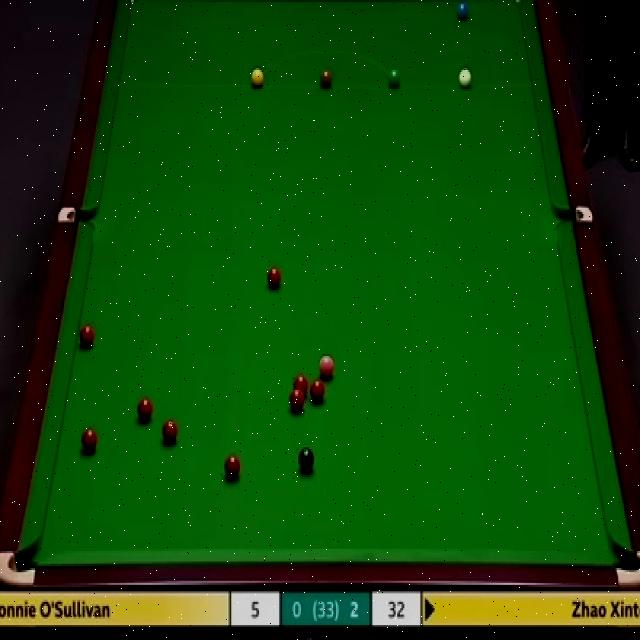black-ball: (298, 447, 316, 471)
blue-ball: (457, 1, 468, 23)
brown-ball: (319, 70, 333, 87)
green-ball: (387, 66, 402, 91)
pink-ball: (317, 358, 335, 375)
red-ball: (287, 386, 307, 412), (81, 428, 99, 455), (223, 453, 242, 478), (291, 373, 309, 399), (162, 421, 180, 446), (138, 398, 154, 425), (309, 380, 327, 403), (79, 322, 95, 346), (265, 266, 282, 288)
white-ball: (459, 67, 472, 88)
yellow-ball: (250, 67, 264, 89)
